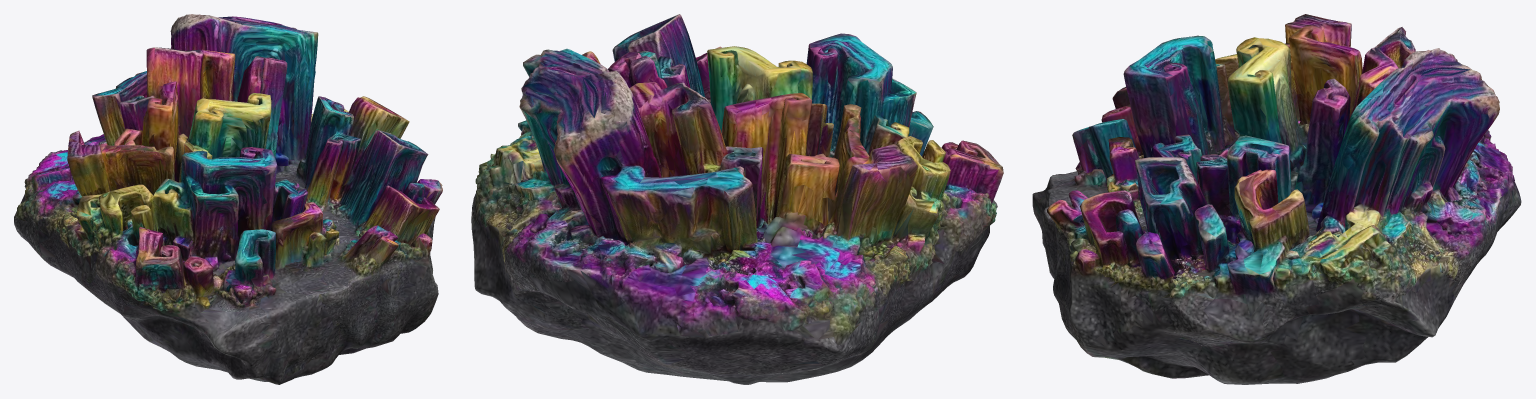
File: Rainbow_Bismuth_Citad.glb
3 views of the same model, side by side, from view 1: azimuth 30°, elevation 25°; view 2: azimuth 150°, elevation 25°; view 3: azimuth 270°, elevation 25° (orthographic). The views are drawn at different scales.
Parts seen in each view (by area): view 1: Rainbow_Bismuth_Citad; view 2: Rainbow_Bismuth_Citad; view 3: Rainbow_Bismuth_Citad.
Boxes of the visible parts, x1=… form: Rainbow_Bismuth_Citad: x1=14, y1=14, x2=442, y2=384; Rainbow_Bismuth_Citad: x1=471, y1=14, x2=1003, y2=384; Rainbow_Bismuth_Citad: x1=1032, y1=14, x2=1521, y2=384.
Size of the model in its own units: 1.78 by 1.36 by 1.9.
1 material, 1 textured.
